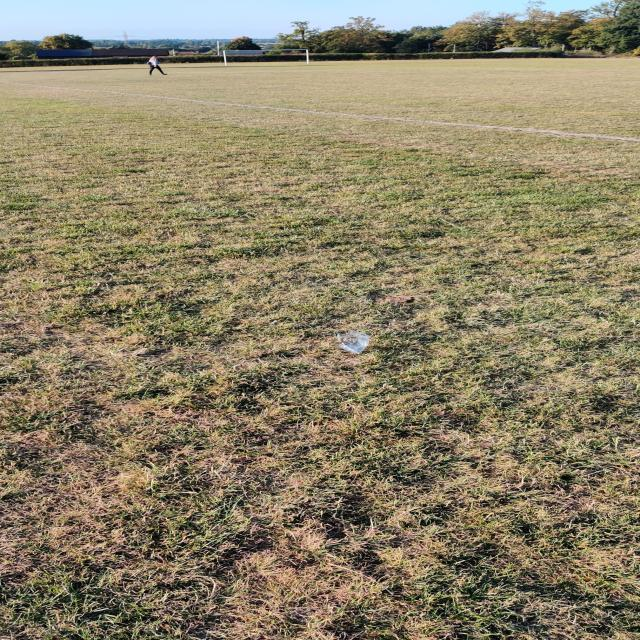litter: (329, 327, 375, 358)
